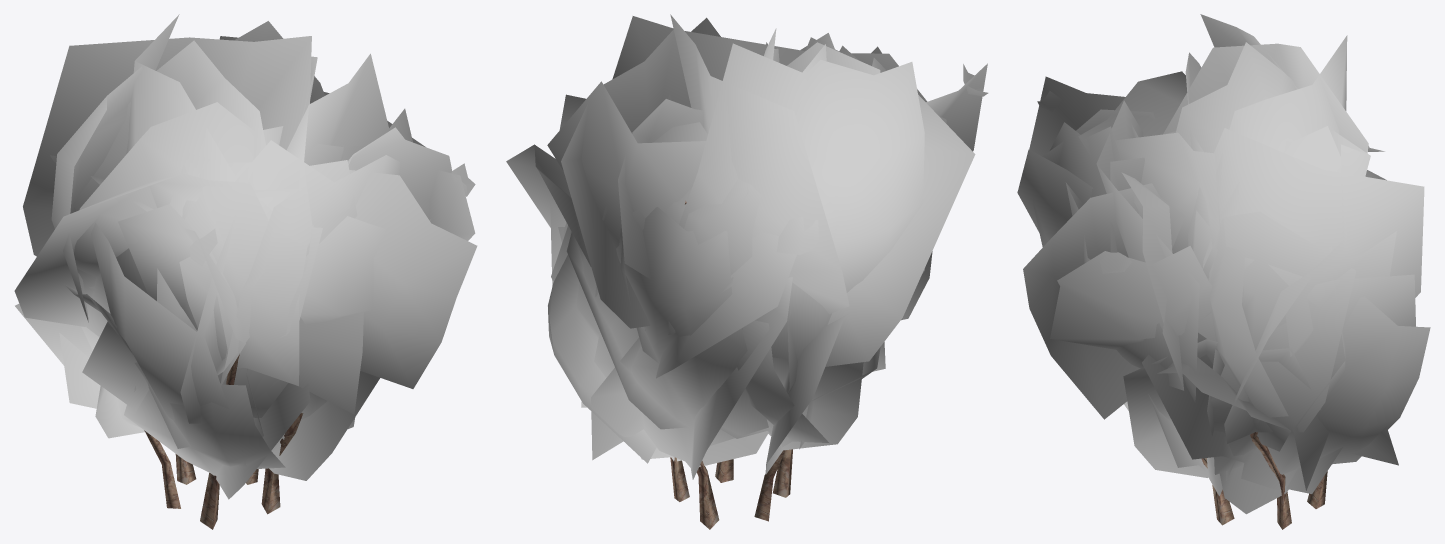
Rendered from Bushes1.fbx.
3 renders of one model, left to right at view 1: azimuth 30°, elevation 25°; view 2: azimuth 150°, elevation 25°; view 3: azimuth 270°, elevation 25°, orthographic. The views are drawn at different scales.
Parts seen in each view (by area): view 1: rosebayRhododendron_01_bigBush:bushFlower021, rosebayRhododendron_01_bigBush:smallTwig004; view 2: rosebayRhododendron_01_bigBush:bushFlower021, rosebayRhododendron_01_bigBush:smallTwig004; view 3: rosebayRhododendron_01_bigBush:bushFlower021, rosebayRhododendron_01_bigBush:smallTwig004.
Boxes of the visible parts, left/top/right/bottom form: rosebayRhododendron_01_bigBush:bushFlower021: left=14, top=14, right=477, bottom=499; rosebayRhododendron_01_bigBush:smallTwig004: left=144, top=354, right=303, bottom=529; rosebayRhododendron_01_bigBush:bushFlower021: left=506, top=14, right=988, bottom=479; rosebayRhododendron_01_bigBush:smallTwig004: left=670, top=200, right=792, bottom=529; rosebayRhododendron_01_bigBush:bushFlower021: left=1017, top=14, right=1430, bottom=514; rosebayRhododendron_01_bigBush:smallTwig004: left=1201, top=432, right=1327, bottom=529.
Bounding box in the file's own units: 2.75 × 2.98 × 2.46.
